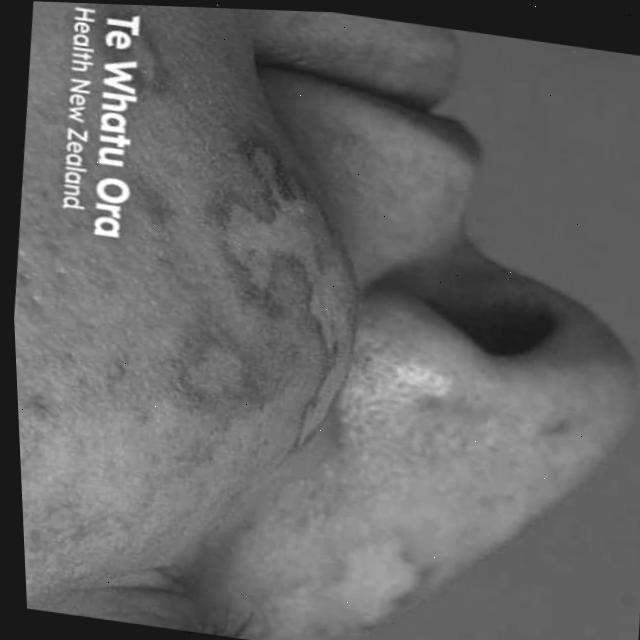lupus-detected: (31, 82, 434, 561), (8, 0, 218, 260), (258, 475, 467, 640)
